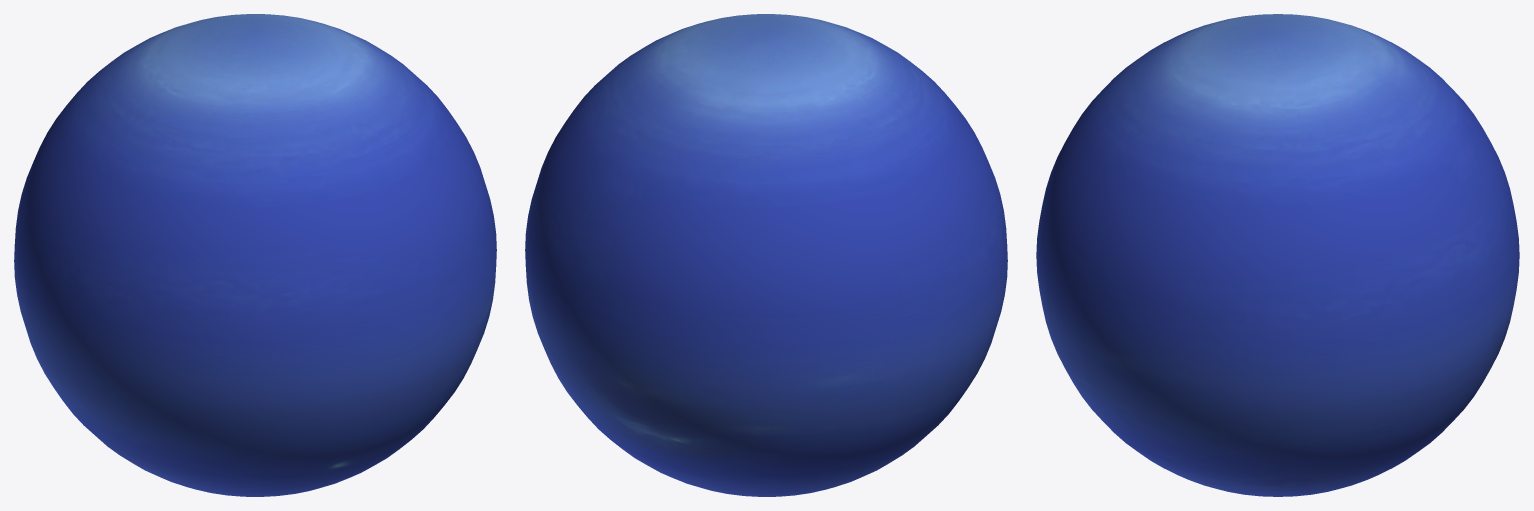
Rendered from AdobeStock_360348636_neptune.glb.
3 views of the same model, side by side, from view 1: azimuth 30°, elevation 25°; view 2: azimuth 150°, elevation 25°; view 3: azimuth 270°, elevation 25° (orthographic).
Parts seen in each view (by area): view 1: neptune_GEO; view 2: neptune_GEO; view 3: neptune_GEO.
Boxes of the visible parts, bbox=[...] form: neptune_GEO: bbox=[14, 14, 496, 496]; neptune_GEO: bbox=[525, 14, 1007, 496]; neptune_GEO: bbox=[1036, 14, 1519, 496].
Bounding box in the file's own units: 9.11 × 9.11 × 9.11.
Materials: 1 (1 with a texture image).
